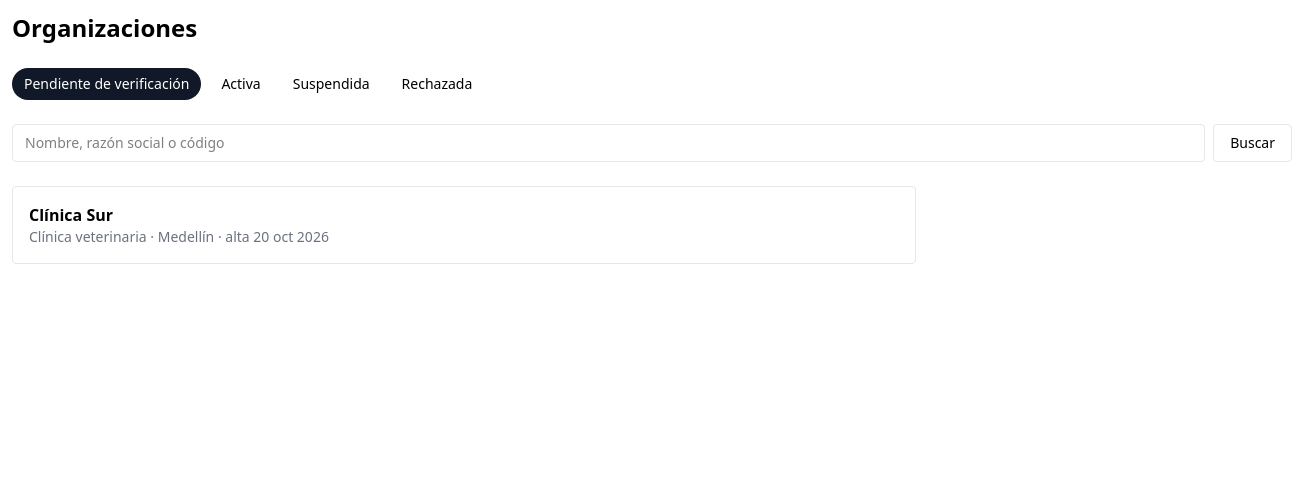
Scenario: AdminOrganizationsPage (FE-009, PRD-017) › pestaña suspendidas ofrece reactivar
The width and height of the screenshot is (1304, 493).
Click the tab with test id "tab-suspended" at (331, 84), box [281,68,382,100]
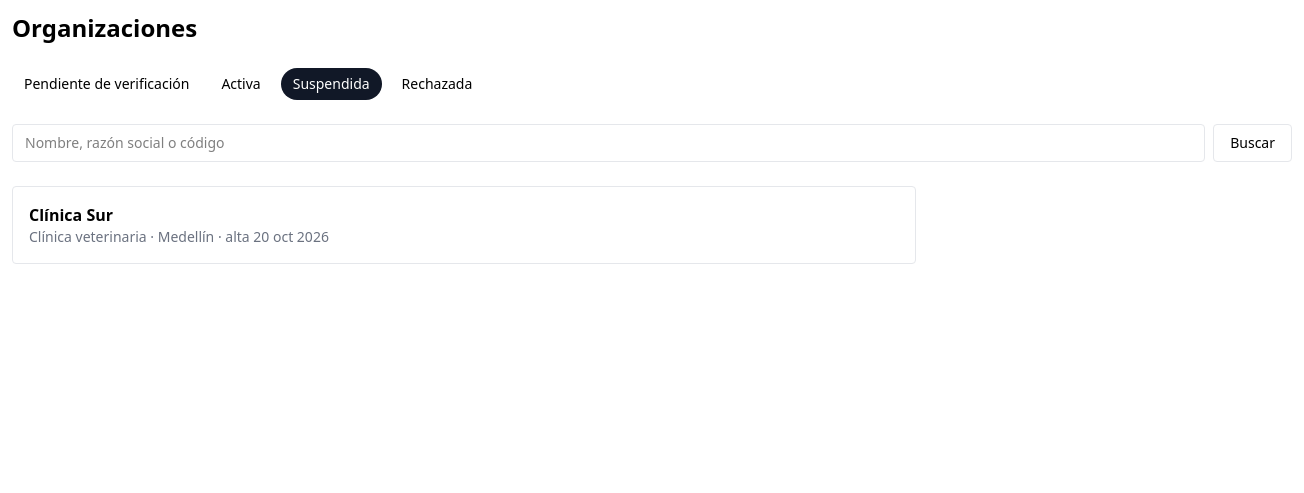
Click the button with test id "org-row" at (71, 215), box [12,186,916,264]
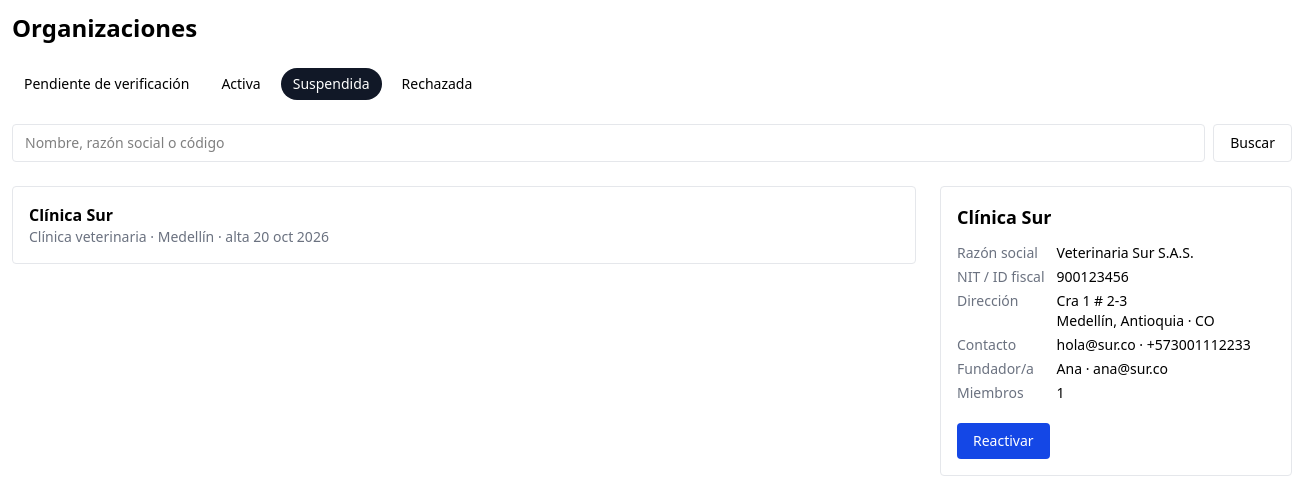
expect the button with test id "action-reactivate" is shown: met, box [957,423,1050,459]
